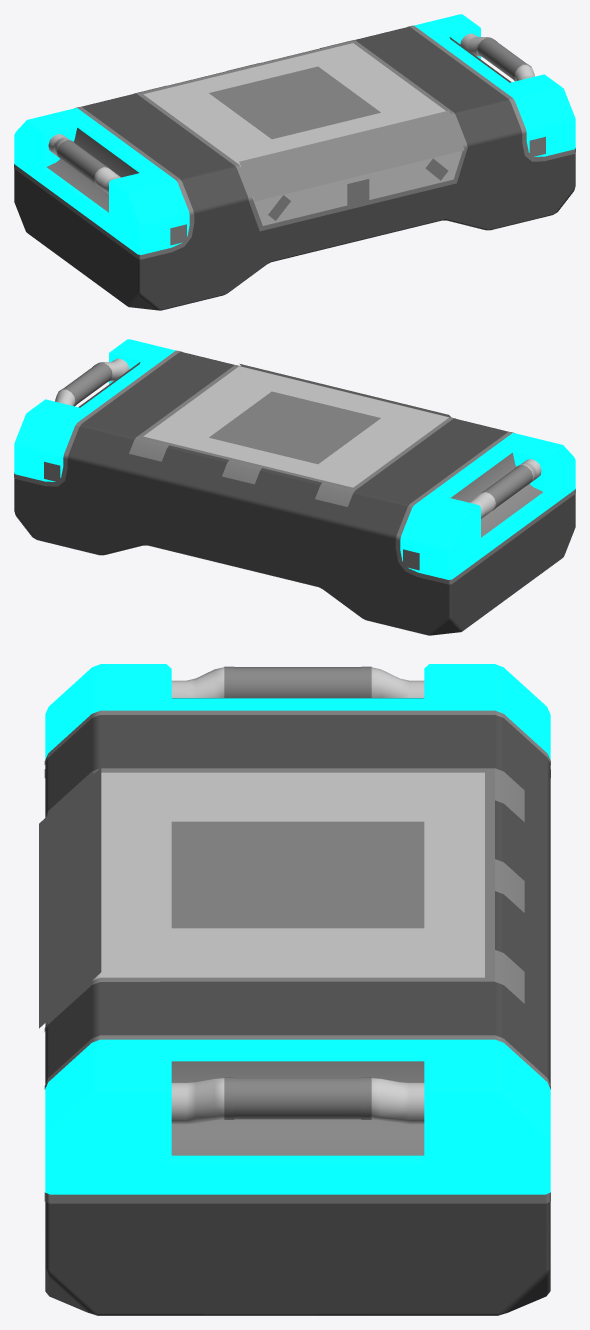
Rendered from FUT0110005.fbx.
3 renders of one model, top to bottom at view 1: azimuth 30°, elevation 25°; view 2: azimuth 150°, elevation 25°; view 3: azimuth 270°, elevation 25°, orthographic. The views are drawn at different scales.
Parts seen in each view (by area): view 1: smFUT0110005; view 2: smFUT0110005; view 3: smFUT0110005.
Boxes of the visible parts, x1=… form: smFUT0110005: x1=14, y1=14, x2=575, y2=310; smFUT0110005: x1=14, y1=339, x2=575, y2=635; smFUT0110005: x1=39, y1=664, x2=550, y2=1315.
Bounding box in the file's own units: 143 × 36.51 × 72.15.
1 material, 1 textured.
